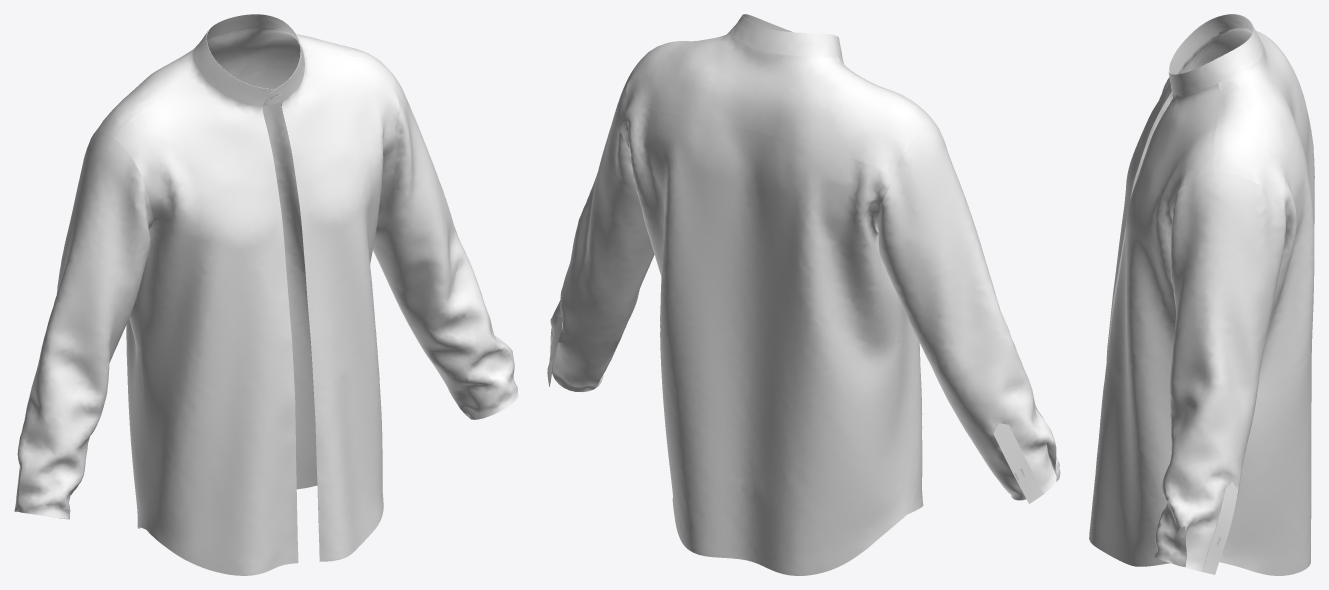
File: shirt-v3-darco.glb
3 views of the same model, side by side, from view 1: azimuth 30°, elevation 25°; view 2: azimuth 150°, elevation 25°; view 3: azimuth 270°, elevation 25° (orthographic).
Visible parts, largest first — view 1: Body_Front_2_Node, Body_Front_Node, Sleeves_1_Node, Sleeves_Node, Body_Back_Node, Body_Back_Yoke_Node, Collar_Stand_Node; view 2: Body_Back_Node, Sleeves_1_Node, Body_Back_Yoke_Node, Sleeves_Node, Body_Front_2_Node, Collar_Stand_Node, Sleeves_Placket_1_Node; view 3: Sleeves_Node, Body_Front_Node, Body_Back_Node, Body_Back_Yoke_Node, Collar_Stand_Node, Body_Front_2_Node, Sleeves_Placket_Node, Sleeves_1_Node.
Part boxes in pixels (<box>): Body_Front_2_Node: <box>114,70,298,575</box>; Body_Front_Node: <box>281,46,399,561</box>; Sleeves_1_Node: <box>14,132,153,519</box>; Sleeves_Node: <box>373,72,518,419</box>; Body_Back_Node: <box>126,69,317,529</box>; Body_Back_Yoke_Node: <box>94,27,390,138</box>; Collar_Stand_Node: <box>193,14,304,106</box>; Body_Back_Node: <box>620,107,907,575</box>; Sleeves_1_Node: <box>875,122,1060,500</box>; Body_Back_Yoke_Node: <box>625,32,929,175</box>; Sleeves_Node: <box>547,65,654,391</box>; Body_Front_2_Node: <box>839,57,934,514</box>; Collar_Stand_Node: <box>729,14,842,59</box>; Sleeves_Placket_1_Node: <box>993,423,1043,503</box>; Sleeves_Node: <box>1154,173,1285,571</box>; Body_Front_Node: <box>1089,83,1219,566</box>; Body_Back_Node: <box>1217,86,1314,575</box>; Body_Back_Yoke_Node: <box>1213,27,1300,200</box>; Collar_Stand_Node: <box>1168,14,1262,95</box>; Body_Front_2_Node: <box>1106,33,1220,359</box>; Sleeves_Placket_Node: <box>1202,483,1238,574</box>; Sleeves_1_Node: <box>1180,34,1245,73</box>.
Size of the model in its own units: 0.7951 by 0.7745 by 0.3083.
5 materials, 5 textured.
